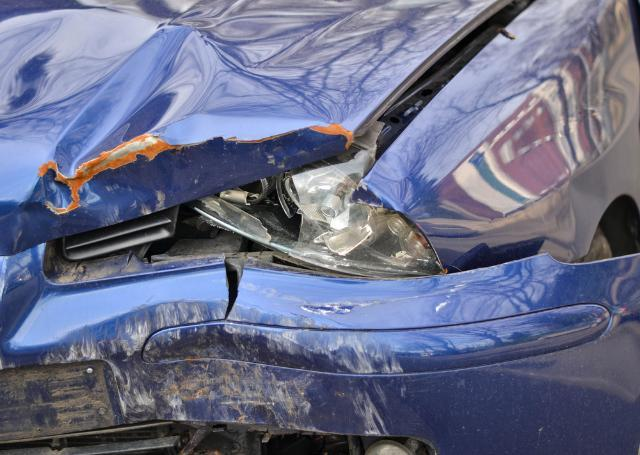crack: (222, 256, 245, 324)
dent: (0, 0, 396, 242), (43, 299, 382, 435)
dislocated part: (44, 151, 447, 290), (350, 2, 542, 181)
lamp broken: (192, 153, 448, 279)
scratch: (348, 328, 412, 398)
